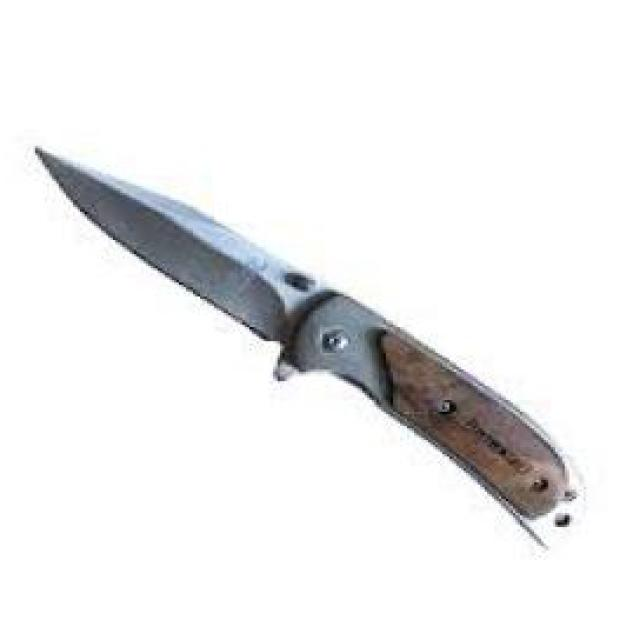knife: (32, 143, 593, 564)
